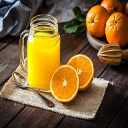orange: (49, 64, 80, 103)
